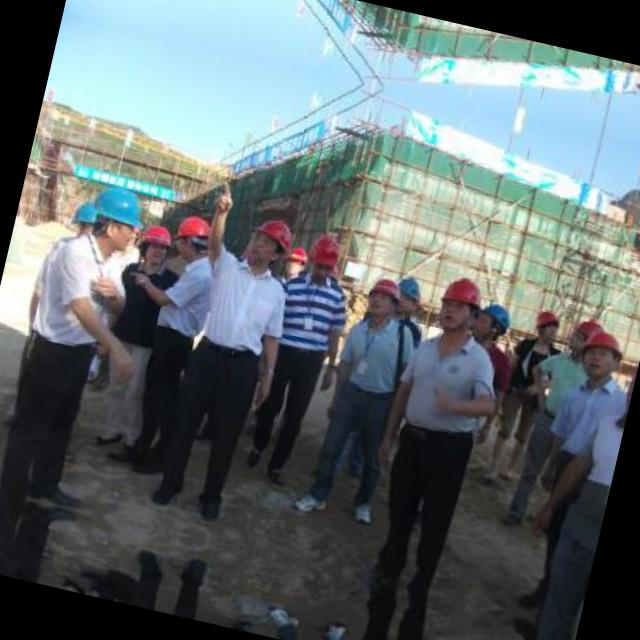helmet: (81, 183, 148, 254), (433, 266, 488, 334), (573, 320, 627, 384), (242, 212, 292, 274), (170, 203, 214, 260), (472, 296, 516, 344), (306, 232, 348, 282), (132, 220, 173, 270), (560, 309, 602, 357), (361, 271, 401, 321), (528, 304, 564, 349), (392, 272, 424, 318), (278, 238, 308, 282)
